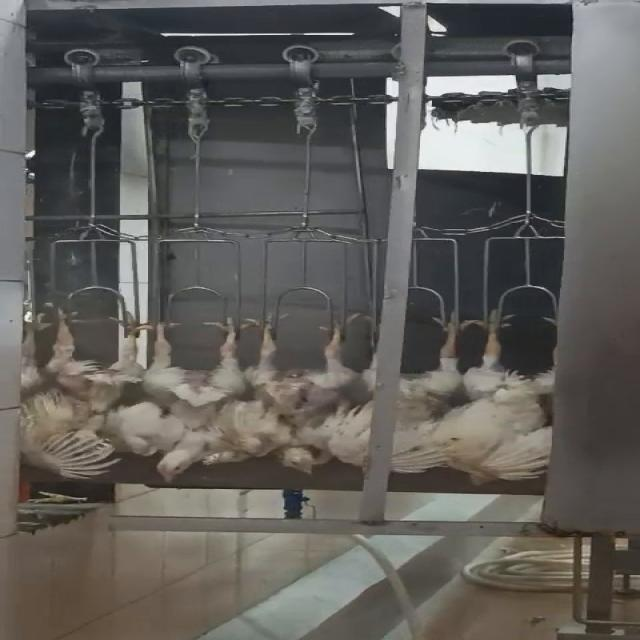chicken: (229, 304, 368, 476), (5, 307, 139, 485), (434, 298, 560, 486), (331, 306, 472, 474), (126, 310, 256, 487)
